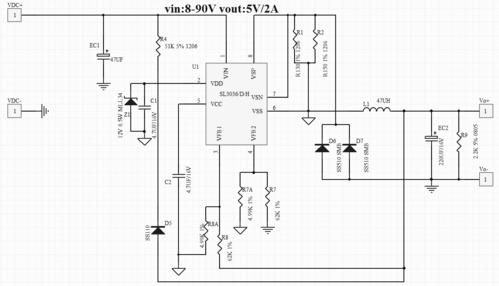cap1: (422, 130, 440, 144), (93, 49, 112, 62), (170, 171, 187, 181), (139, 102, 153, 113)
diode: (148, 223, 168, 239), (121, 93, 140, 109), (313, 141, 331, 157), (342, 142, 358, 155)
gnd: (94, 79, 112, 92), (39, 102, 51, 121), (259, 224, 278, 236), (422, 183, 442, 194)
inductance: (361, 106, 395, 116)
res2: (262, 185, 272, 213), (154, 32, 163, 62), (455, 129, 464, 159), (236, 185, 246, 212), (291, 26, 300, 55), (216, 229, 224, 260), (203, 218, 210, 248), (312, 26, 319, 55)
